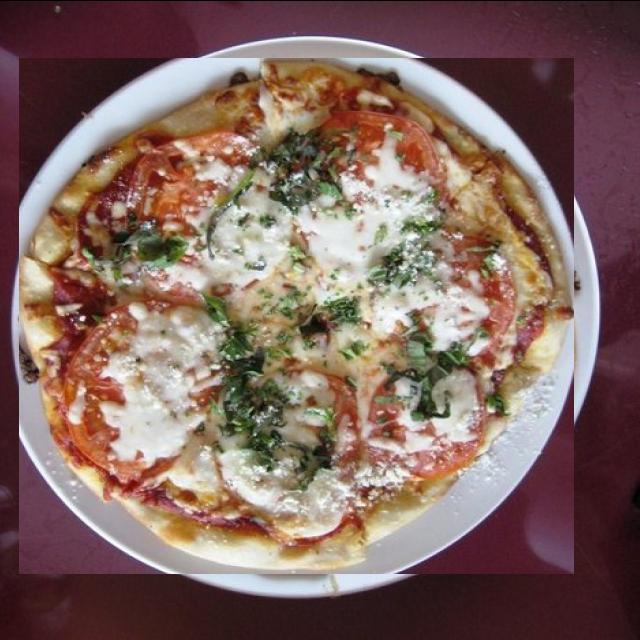pizza: (19, 57, 574, 573)
